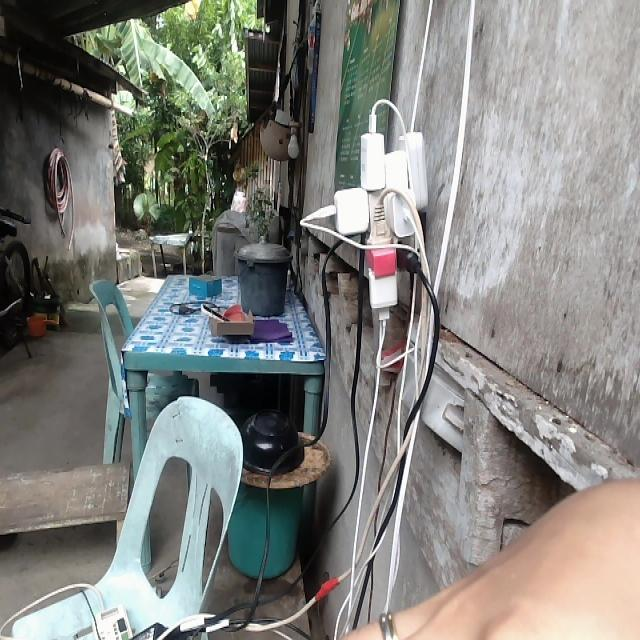-: (297, 97, 428, 324)
